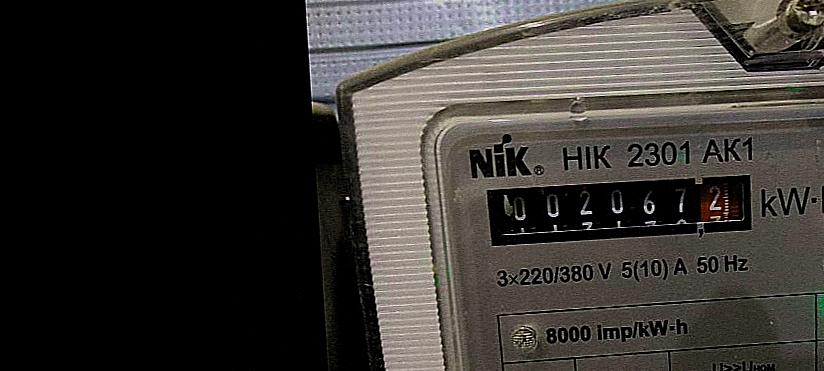0: (509, 194, 529, 224), (606, 186, 626, 215), (543, 190, 562, 220)
2: (705, 183, 725, 213), (576, 188, 595, 218)
6: (639, 187, 659, 217)
7: (672, 185, 690, 216)
screen: (472, 161, 769, 260)
